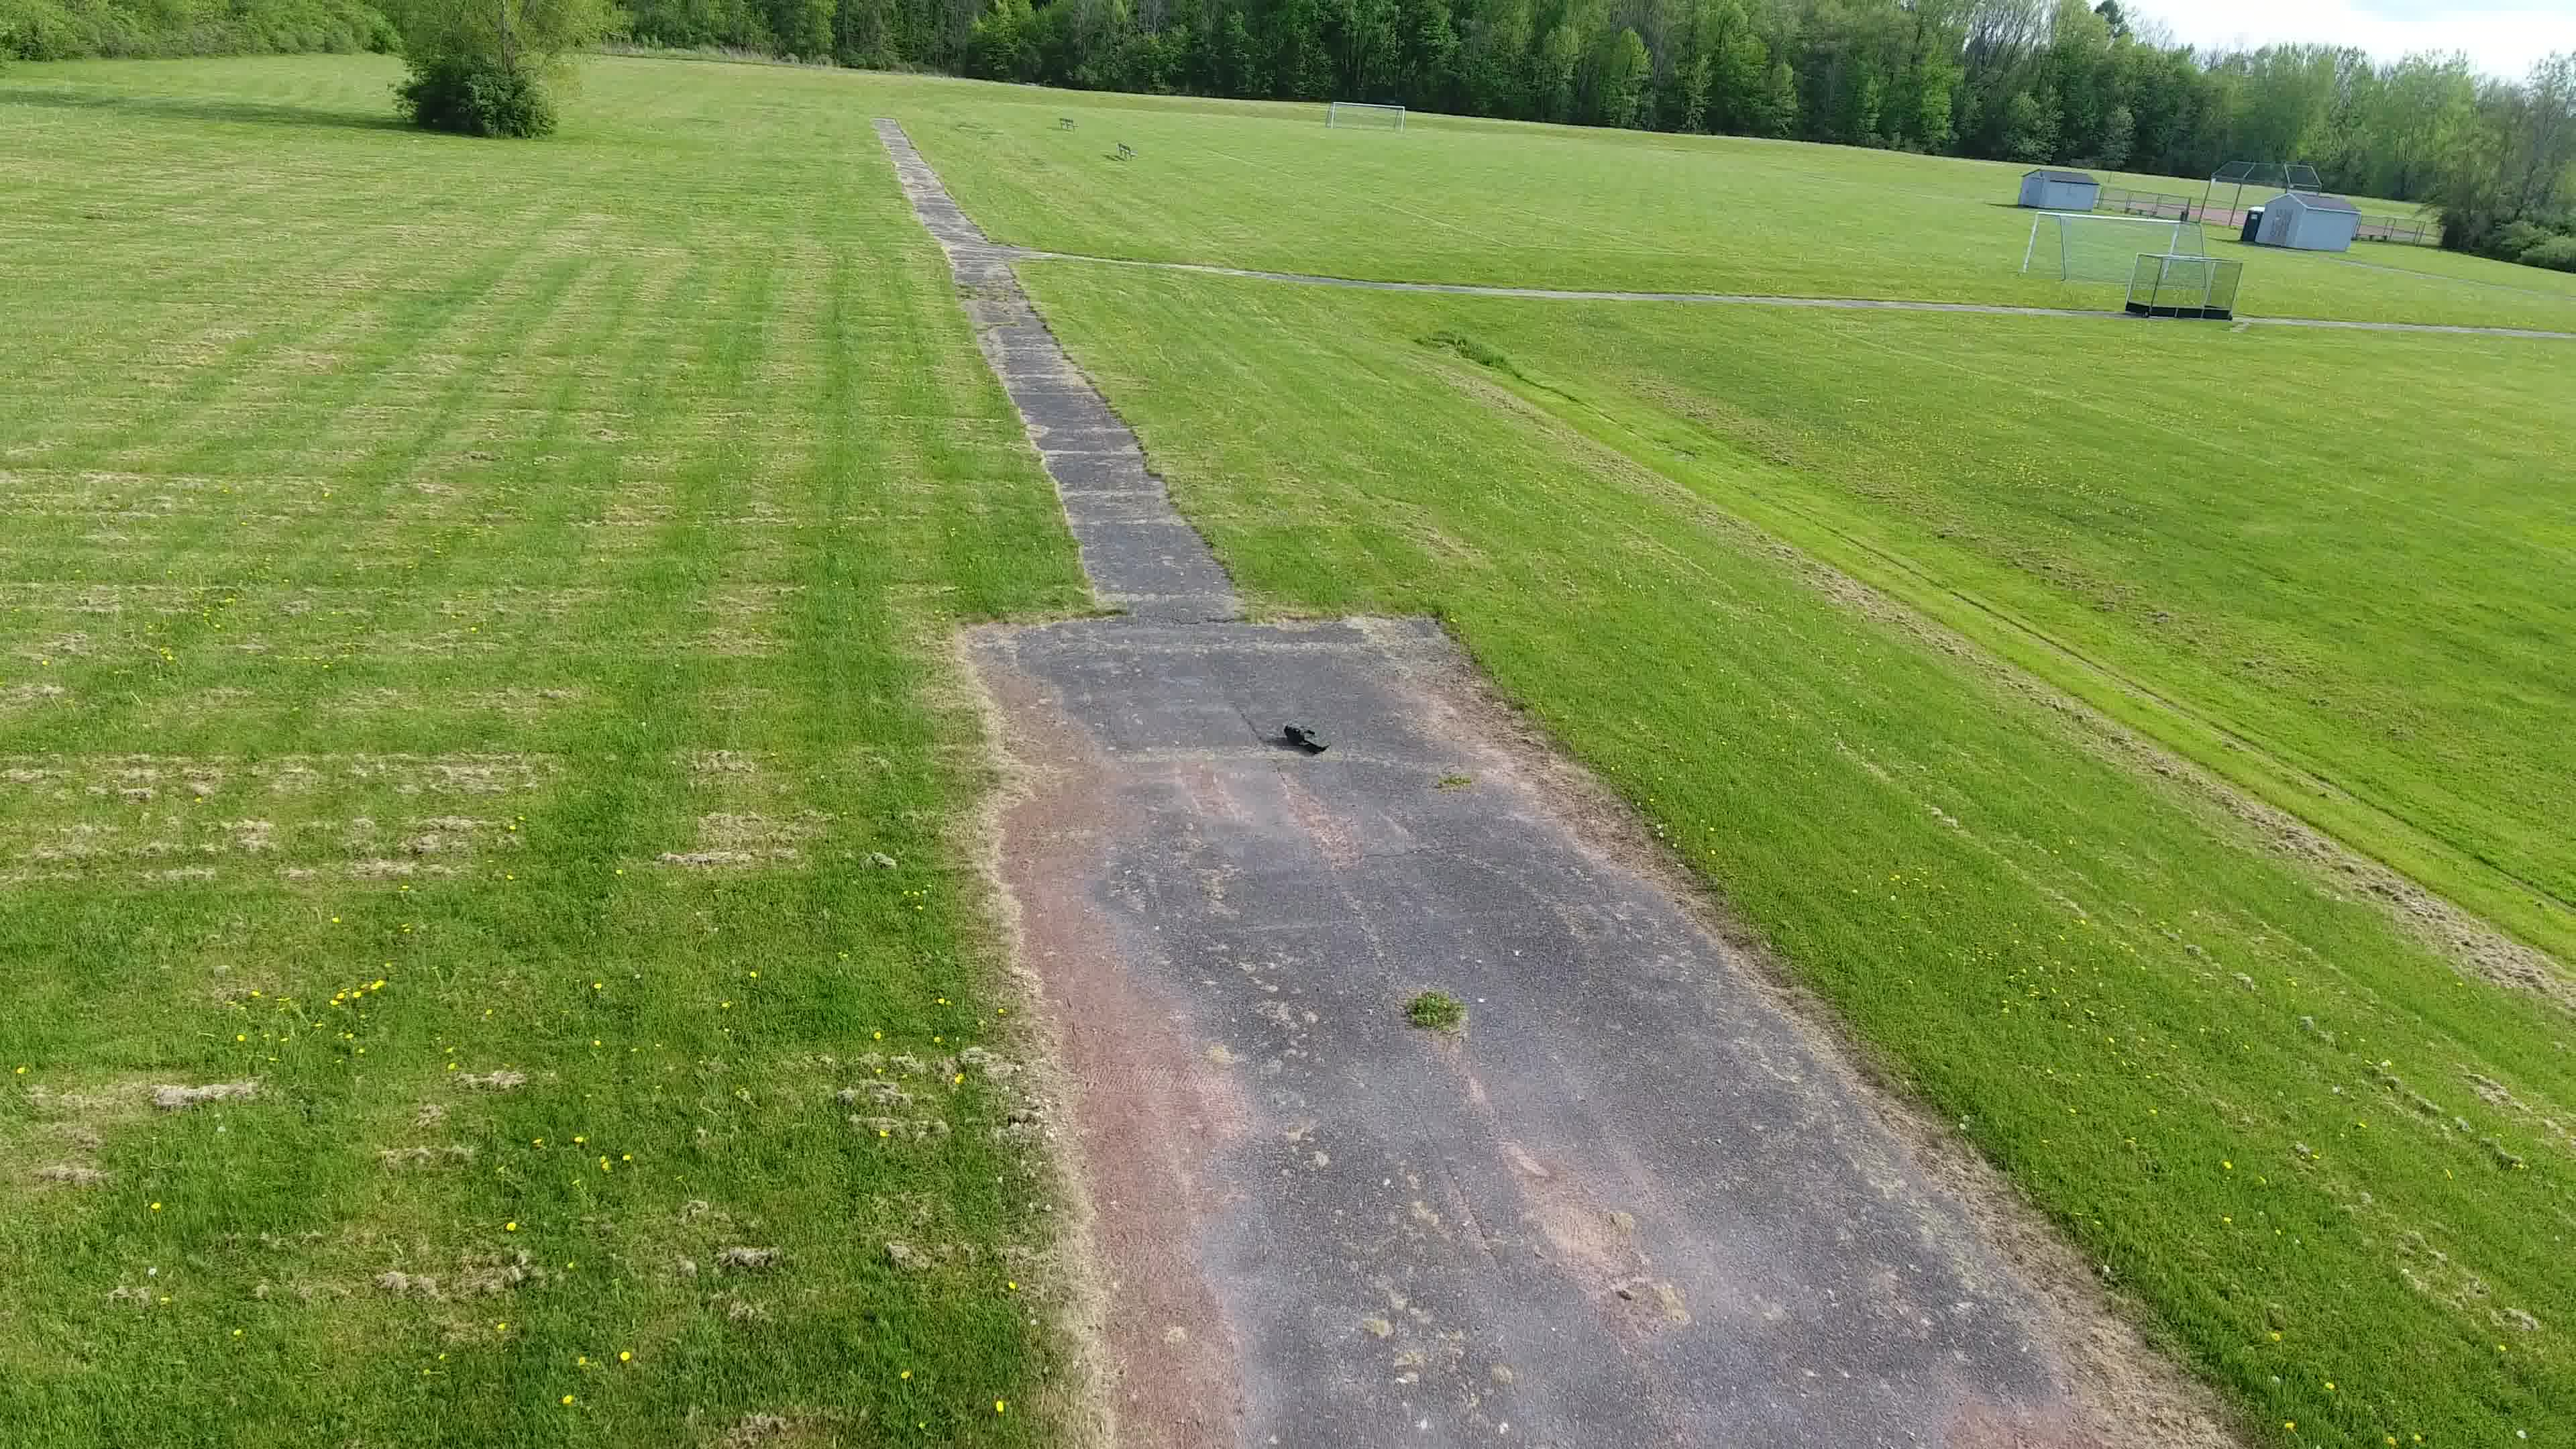transporter9: (1281, 722, 1336, 757)
